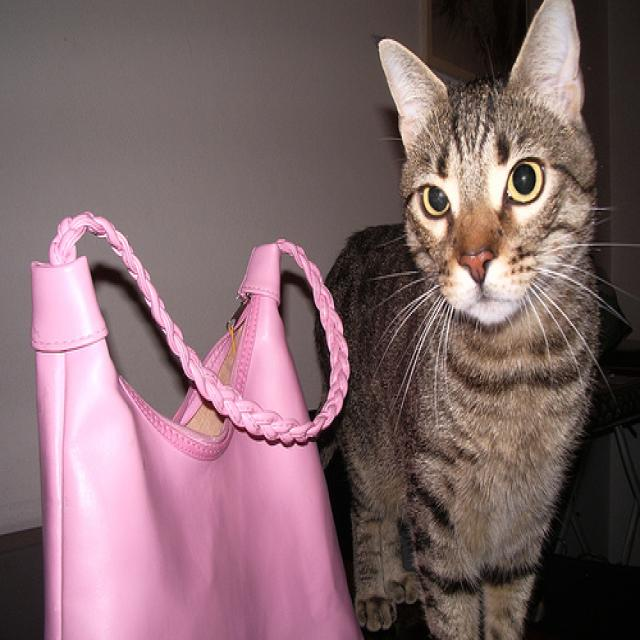cat: (314, 1, 635, 639)
